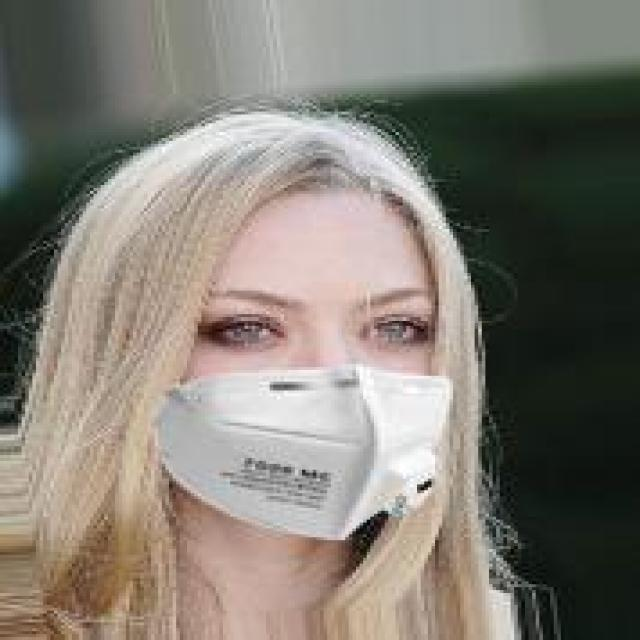mask: (108, 118, 467, 494)
